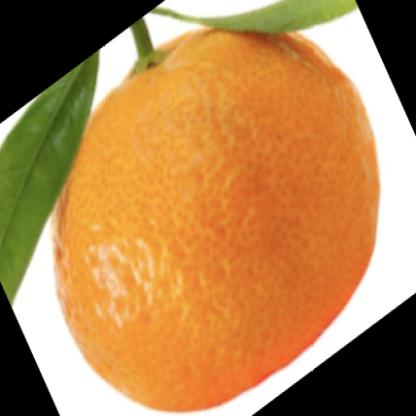fresh: (54, 25, 378, 408)
